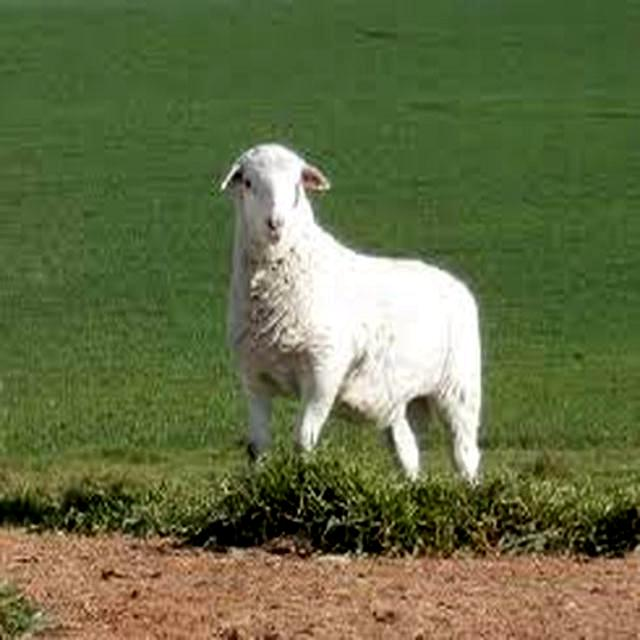sheep: (218, 143, 483, 476)
